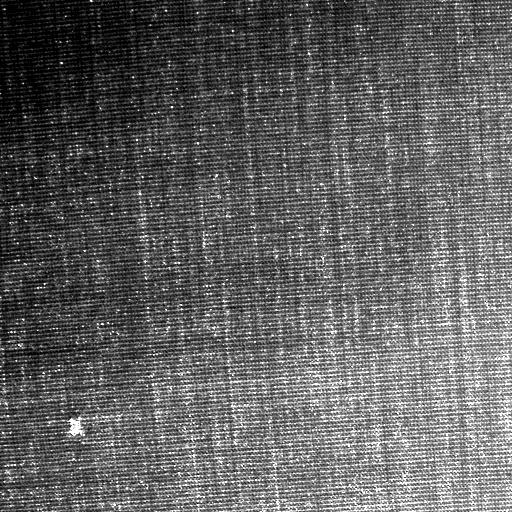fabric_hole: (54, 411, 96, 451)
